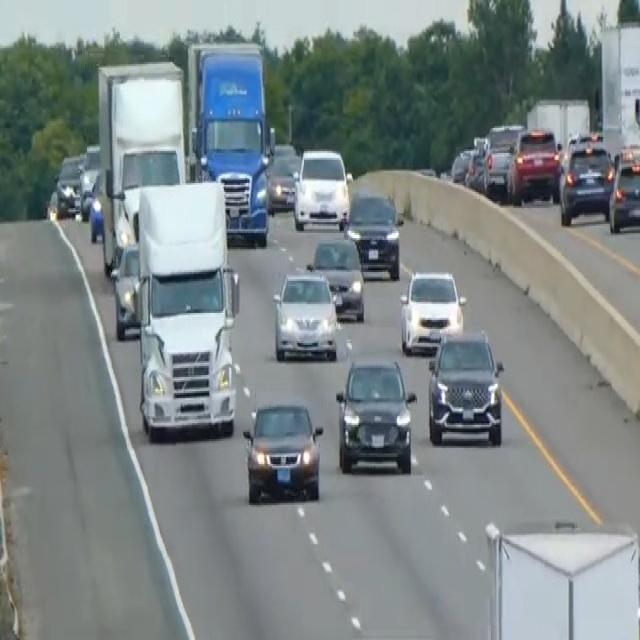car: (335, 352, 416, 475), (426, 326, 504, 446), (242, 398, 324, 503), (272, 266, 338, 362), (398, 266, 466, 354), (344, 189, 403, 279), (306, 236, 365, 322), (558, 137, 614, 226), (292, 146, 350, 231), (508, 125, 560, 202), (482, 121, 523, 197), (110, 240, 141, 340), (608, 151, 639, 233), (266, 151, 300, 213), (55, 153, 83, 217), (78, 142, 100, 219), (87, 170, 104, 242), (450, 144, 476, 185)
lorry: (134, 178, 241, 441), (96, 57, 188, 274), (185, 39, 275, 247)
